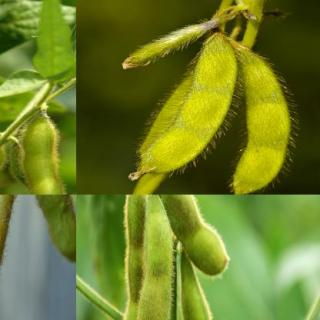soya: (132, 36, 236, 180), (229, 48, 290, 194), (124, 197, 172, 319), (165, 194, 231, 274), (123, 18, 213, 70), (181, 252, 232, 320), (23, 119, 68, 194), (30, 194, 76, 264), (121, 195, 146, 319)
